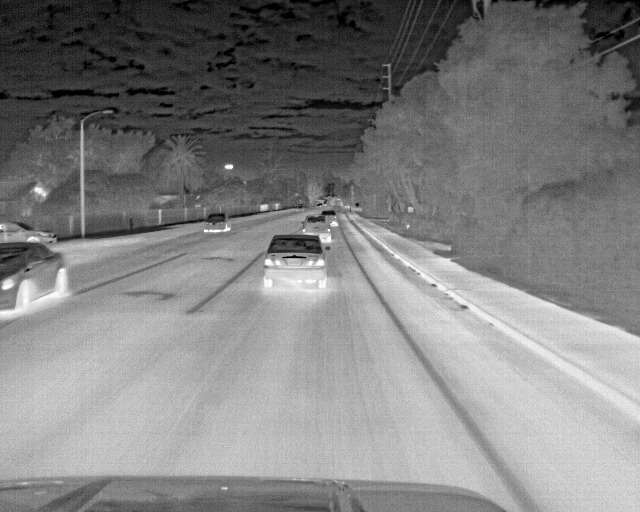vehicle: (1, 242, 68, 316), (265, 234, 327, 291), (304, 216, 337, 244), (203, 212, 233, 236)
